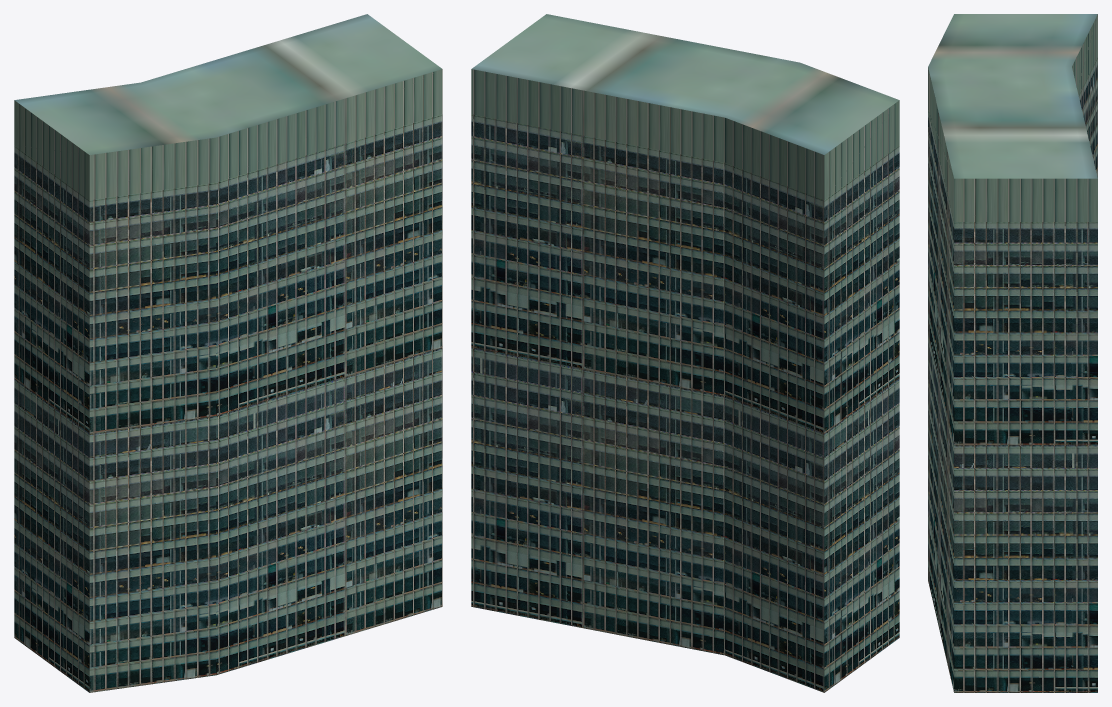
Rendered from SM_SYD_Facade_BespokeOffice01.fbx.
3 renders of one model, left to right at view 1: azimuth 30°, elevation 25°; view 2: azimuth 150°, elevation 25°; view 3: azimuth 270°, elevation 25°, orthographic. The views are drawn at different scales.
Visible parts, largest first — view 1: SM_SYD_Facade_BespokeOffice01; view 2: SM_SYD_Facade_BespokeOffice01; view 3: SM_SYD_Facade_BespokeOffice01.
Boxes of the visible parts, bbox=[...] form: SM_SYD_Facade_BespokeOffice01: bbox=[14, 14, 442, 692]; SM_SYD_Facade_BespokeOffice01: bbox=[471, 14, 899, 692]; SM_SYD_Facade_BespokeOffice01: bbox=[928, 14, 1097, 692].
Size of the model in its own units: 9000 by 13100 by 3920.
